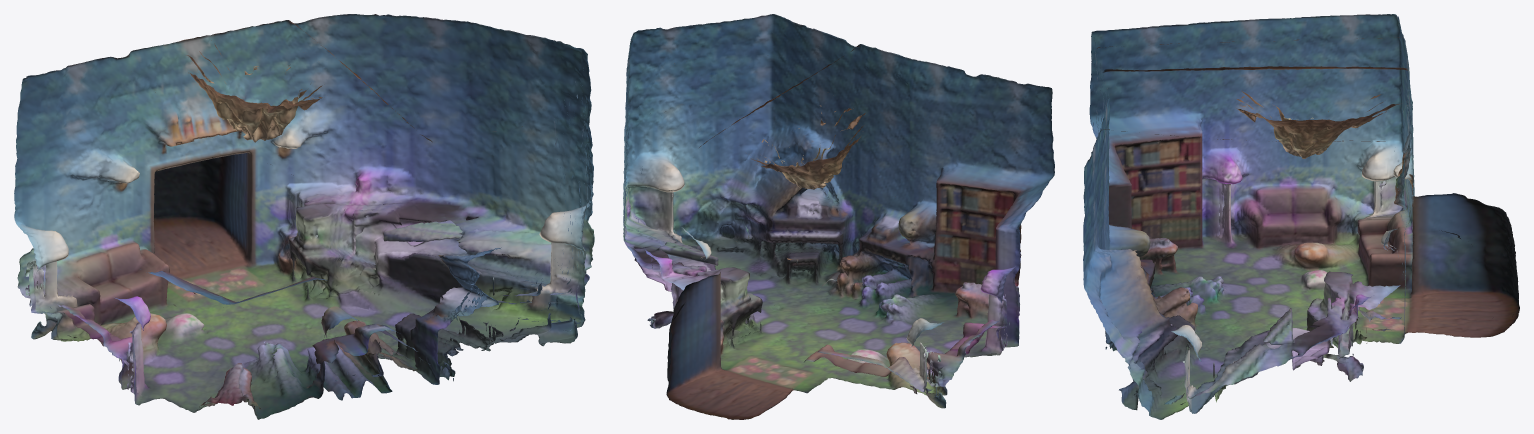
Rendered from ac-mystical-mushroom-forest-interior.glb.
3 renders of one model, left to right at view 1: azimuth 30°, elevation 25°; view 2: azimuth 150°, elevation 25°; view 3: azimuth 270°, elevation 25°, orthographic. The views are drawn at different scales.
Visible parts, largest first — view 1: world; view 2: world; view 3: world.
Boxes of the visible parts, x1,y1,x2,y2 form: world: [14, 14, 594, 419]; world: [623, 14, 1054, 419]; world: [1083, 14, 1519, 419].
Bounding box in the file's own units: 8.35 × 4.38 × 7.64.
